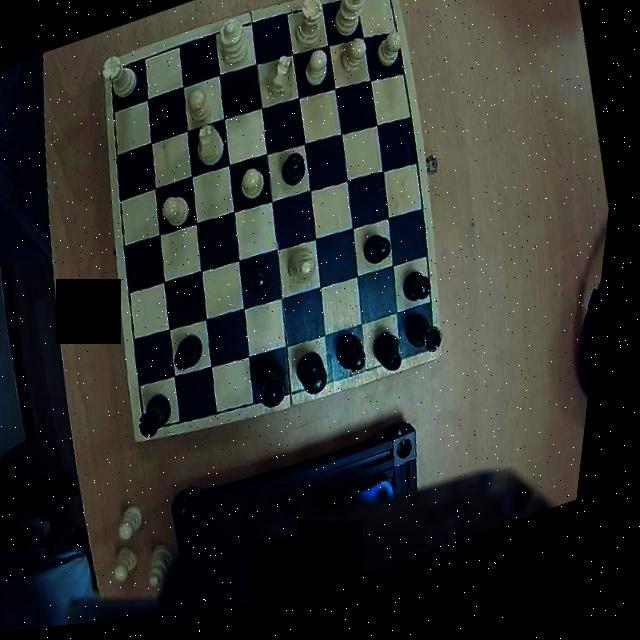chess-table-corners: (142, 408, 182, 446), (100, 60, 138, 96), (416, 338, 454, 373), (369, 0, 402, 22)
